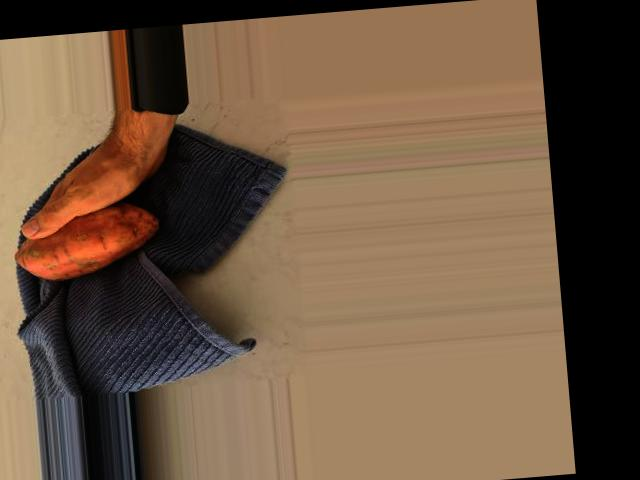sweet_potato: (6, 194, 163, 286)
